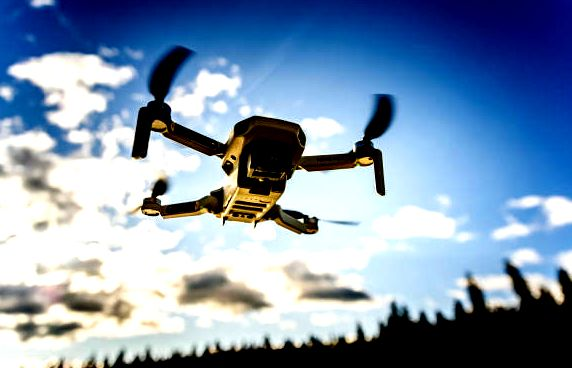Drone: (127, 40, 399, 236)
